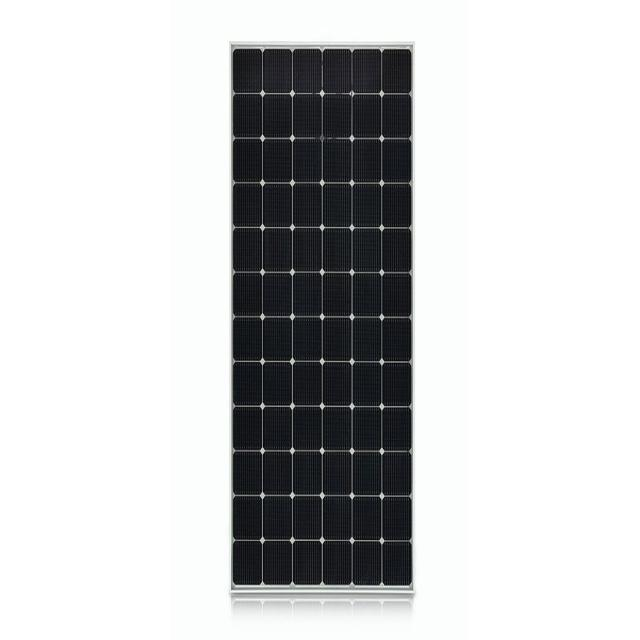clean-solar-panel: (232, 47, 412, 588)
